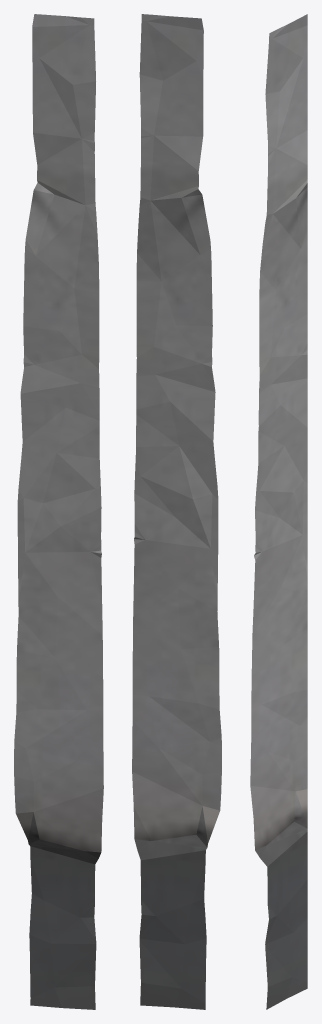
3 renders of one model, left to right at view 1: azimuth 30°, elevation 25°; view 2: azimuth 210°, elevation 25°; view 3: azimuth 270°, elevation 25°, orthographic.
Size of the model in its own units: 0.0536 by 0.8374 by 0.0446.
1 material, 1 textured.
